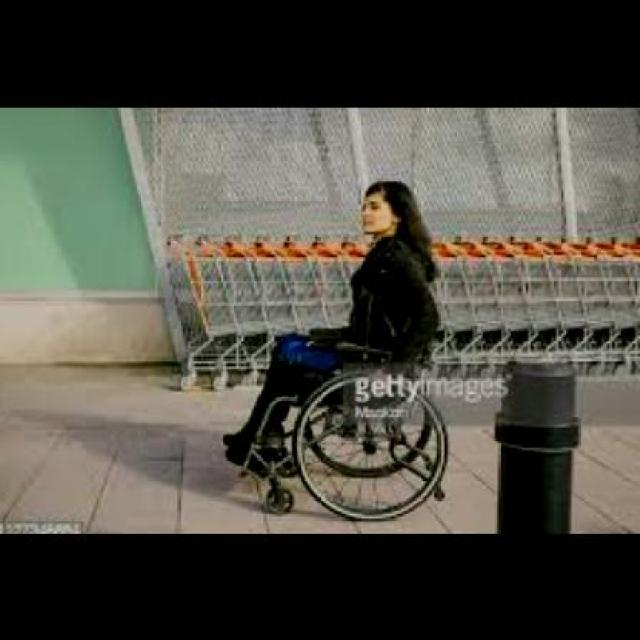wheelchairs: (205, 321, 472, 525)
